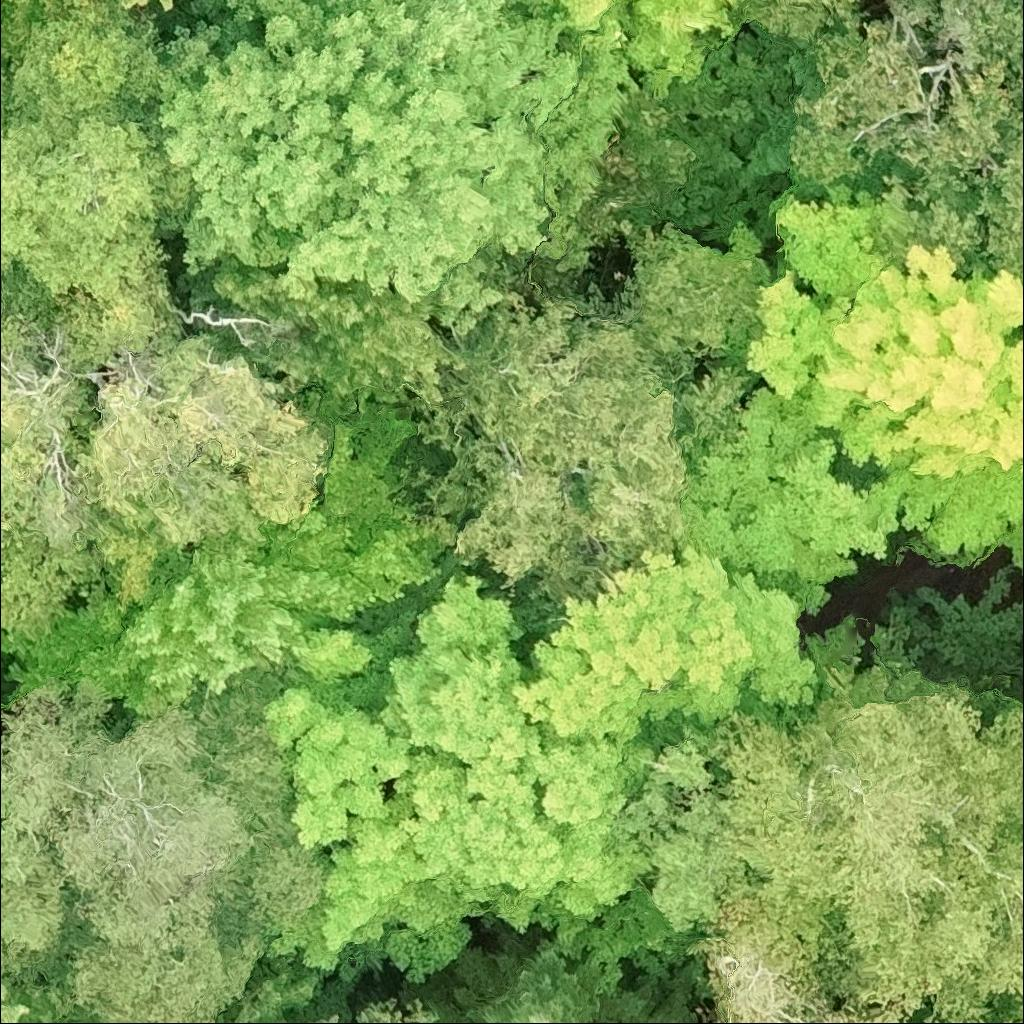crown: (679, 183, 1023, 634), (0, 400, 461, 715), (508, 545, 822, 990), (155, 0, 576, 308), (263, 571, 572, 983), (706, 657, 1023, 1023), (0, 669, 324, 1023), (414, 294, 690, 614), (82, 333, 330, 605), (787, 0, 1023, 277), (0, 0, 193, 306), (0, 268, 103, 643), (204, 263, 466, 408), (616, 224, 760, 444), (396, 924, 697, 1023), (691, 915, 918, 1023), (541, 0, 746, 96), (55, 263, 190, 373), (222, 958, 357, 1023), (0, 0, 95, 78), (0, 962, 106, 1023), (739, 0, 876, 45), (356, 1002, 437, 1023), (982, 993, 1023, 1023), (118, 0, 179, 13), (0, 76, 9, 133), (216, 1018, 227, 1023), (987, 1020, 995, 1023)
